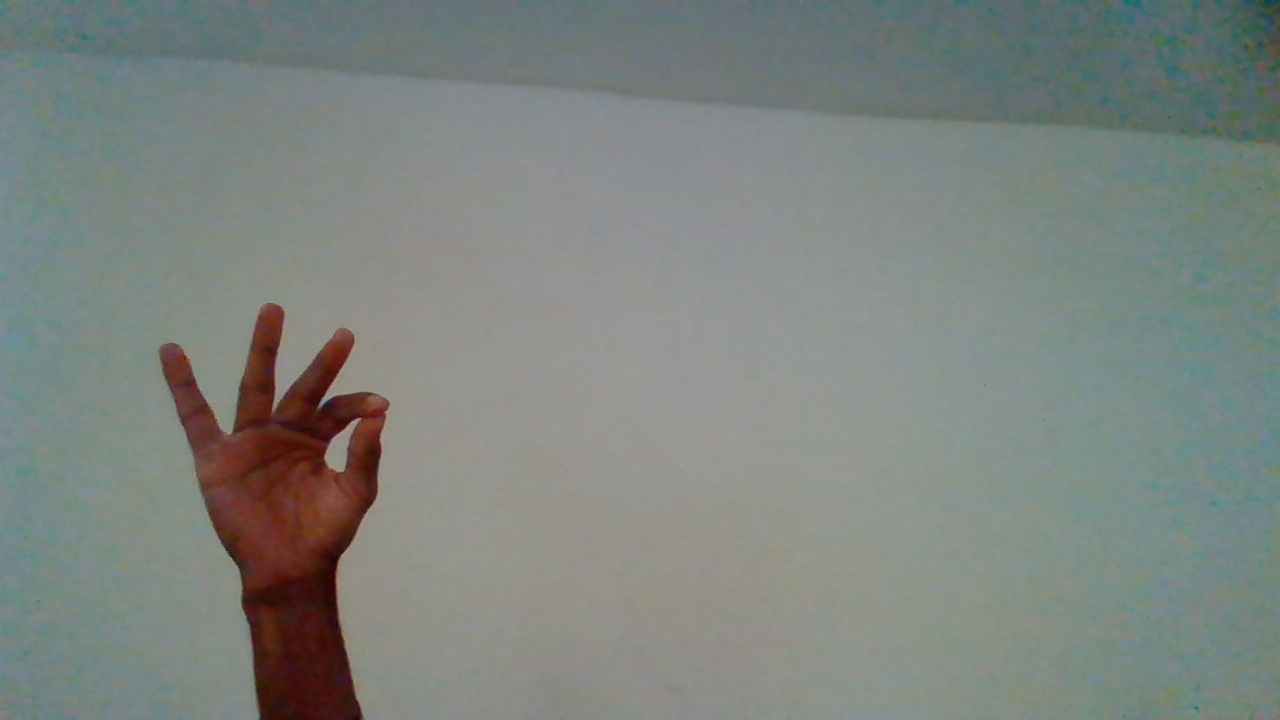le: (154, 300, 385, 713)
